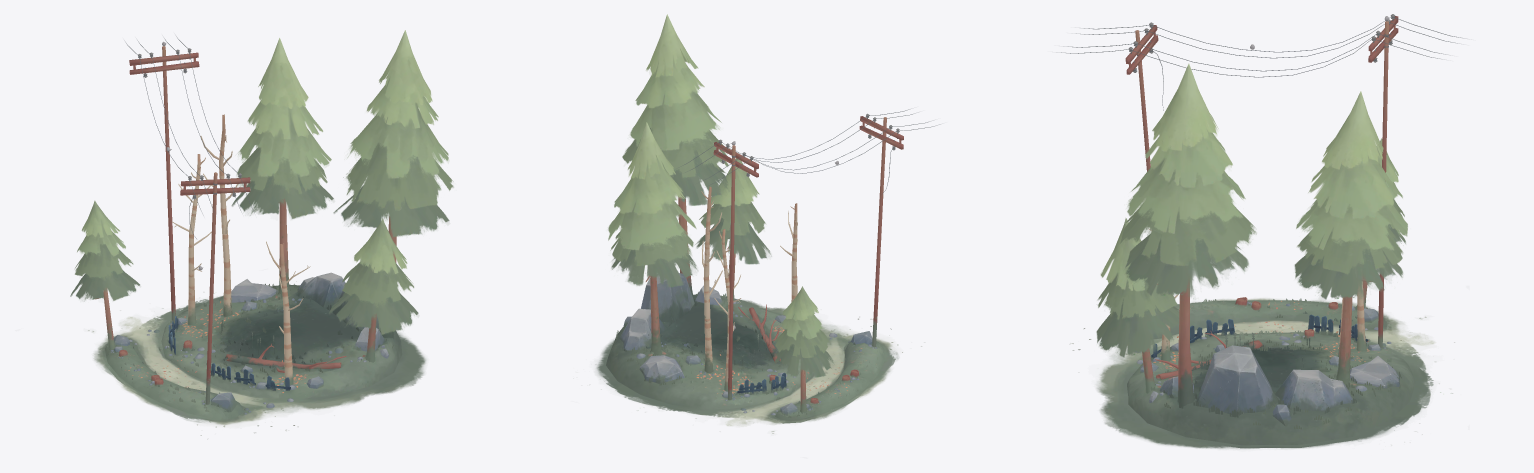
File: backgr-transformed.glb
The picture shows the model from 3 angles, left to right: view 1: azimuth 30°, elevation 25°; view 2: azimuth 150°, elevation 25°; view 3: azimuth 270°, elevation 25°; orthographic projection. The views are drawn at different scales.
Parts seen in each view (by area): view 1: RedwoodAlpha, Ground, GroundPlane, Powerlines, Rocks, Redwood, BTree.001, Grass.Ground, BTree, BTree.002, RedwoodChopped, SmallRocks (+1 smaller); view 2: RedwoodAlpha, Ground, GroundPlane, Rocks, Powerlines, Redwood, BTree.001, Grass.Ground, BTree.002, BTree, RedwoodChopped, SmallRocks; view 3: RedwoodAlpha, Ground, GroundPlane, Rocks, Powerlines, Redwood, Grass.Ground, Powerlines.001, BTree.002, FenceRight.
Part boxes in pixels (left/top/right/bottom): RedwoodAlpha: left=70, top=30, right=453, bottom=335; Ground: left=105, top=284, right=402, bottom=419; GroundPlane: left=88, top=281, right=426, bottom=439; Powerlines: left=129, top=46, right=250, bottom=404; Rocks: left=113, top=272, right=385, bottom=411; Redwood: left=94, top=199, right=396, bottom=362; BTree.001: left=200, top=114, right=237, bottom=316; Grass.Ground: left=107, top=283, right=394, bottom=412; BTree: left=266, top=241, right=310, bottom=385; BTree.002: left=172, top=154, right=211, bottom=325; RedwoodChopped: left=226, top=343, right=346, bottom=372; SmallRocks: left=110, top=298, right=388, bottom=414; RedwoodAlpha: left=608, top=14, right=834, bottom=377; Ground: left=606, top=294, right=884, bottom=423; GroundPlane: left=595, top=300, right=924, bottom=433; Rocks: left=619, top=273, right=872, bottom=416; Powerlines: left=713, top=113, right=903, bottom=399; Redwood: left=645, top=195, right=806, bottom=413; BTree.001: left=701, top=186, right=722, bottom=372; Grass.Ground: left=613, top=291, right=881, bottom=417; BTree.002: left=714, top=229, right=741, bottom=391; BTree: left=780, top=203, right=797, bottom=302; RedwoodChopped: left=738, top=304, right=780, bottom=362; SmallRocks: left=636, top=299, right=876, bottom=415; RedwoodAlpha: left=1096, top=63, right=1407, bottom=358; Ground: left=1127, top=300, right=1415, bottom=448; GroundPlane: left=1069, top=298, right=1454, bottom=448; Rocks: left=1140, top=306, right=1400, bottom=426; Powerlines: left=1125, top=14, right=1398, bottom=347; Redwood: left=1142, top=275, right=1372, bottom=406; Grass.Ground: left=1150, top=298, right=1401, bottom=429; Powerlines.001: left=1056, top=17, right=1465, bottom=59; BTree.002: left=1356, top=281, right=1366, bottom=351; FenceRight: left=1153, top=319, right=1234, bottom=358.
Bounding box in the file's own units: 5.68 × 5.64 × 6.93.
8 materials, 8 textured.
